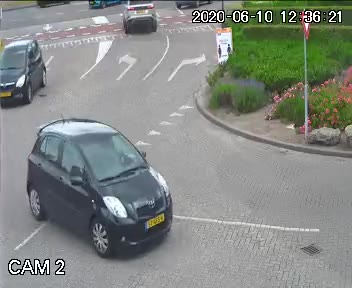car: (16, 114, 181, 260), (0, 37, 51, 105), (116, 2, 158, 36)
